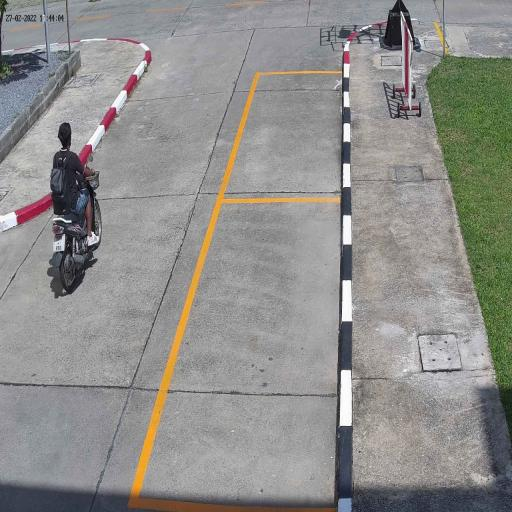motorcycle: (52, 198, 104, 296)
